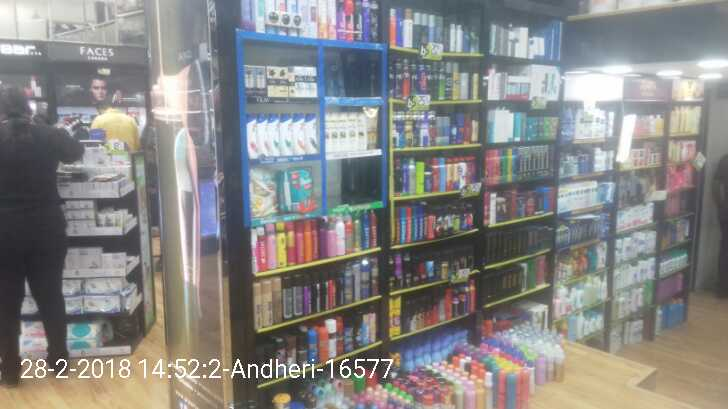venus: (327, 62, 346, 97)
